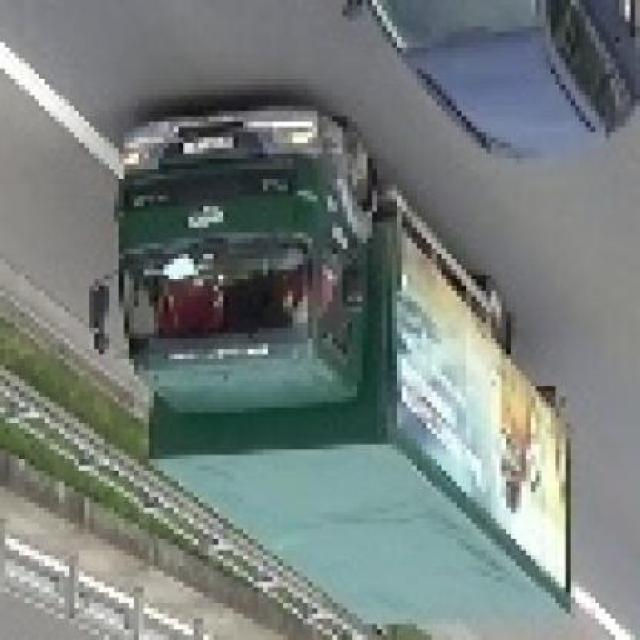truck: (95, 107, 576, 640)
